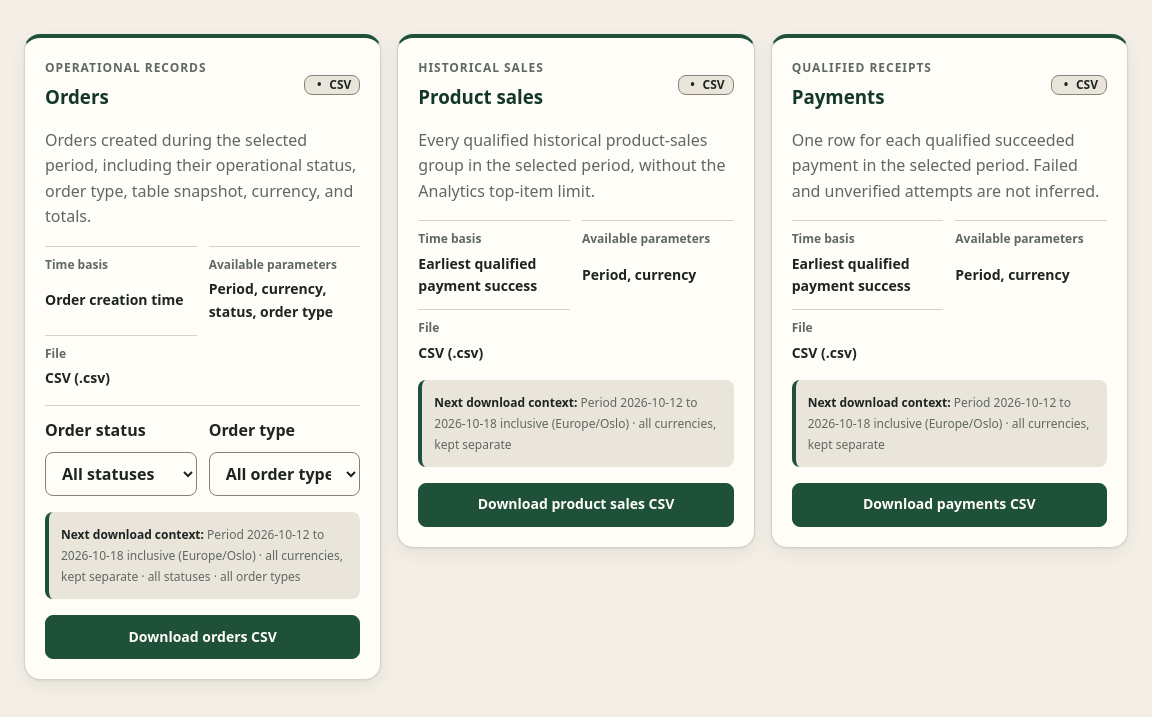
it: administrator CSV export page › omits blank optional filters and downloads a header-only CSV
(page scrolled)
Click the button "Download orders CSV". click: (203, 637)
box: [45,615,360,659]
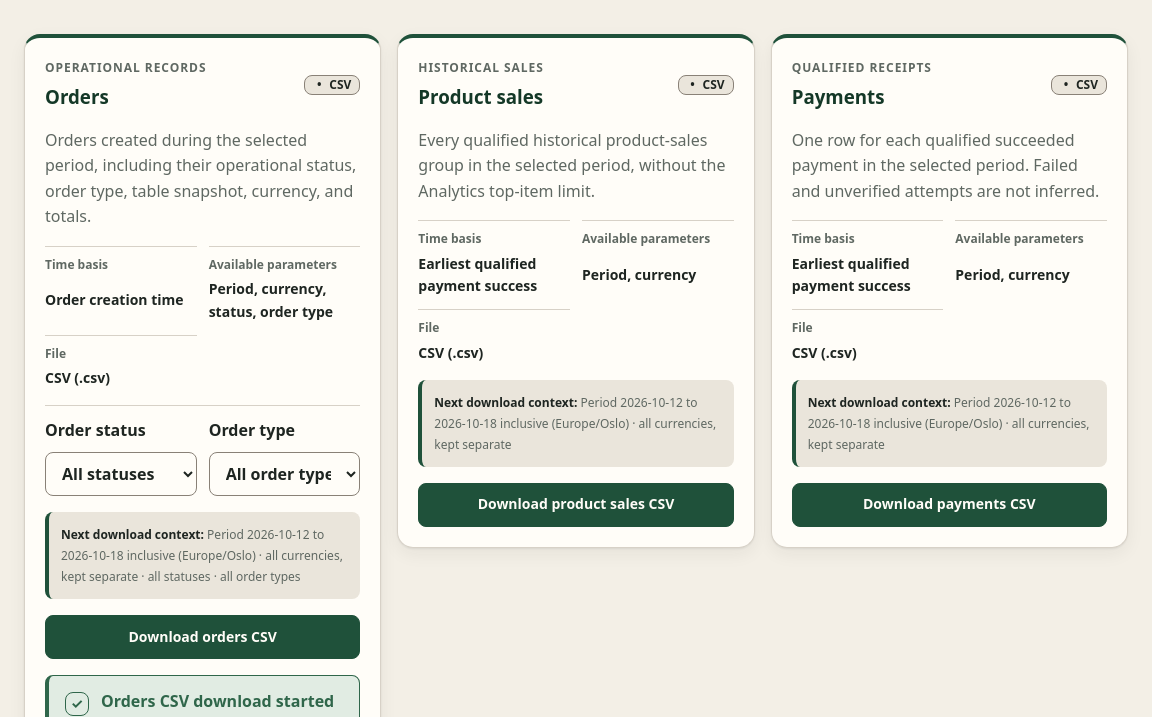
Expected: the text "Orders CSV download started" is shown, [101,692,343,711]
